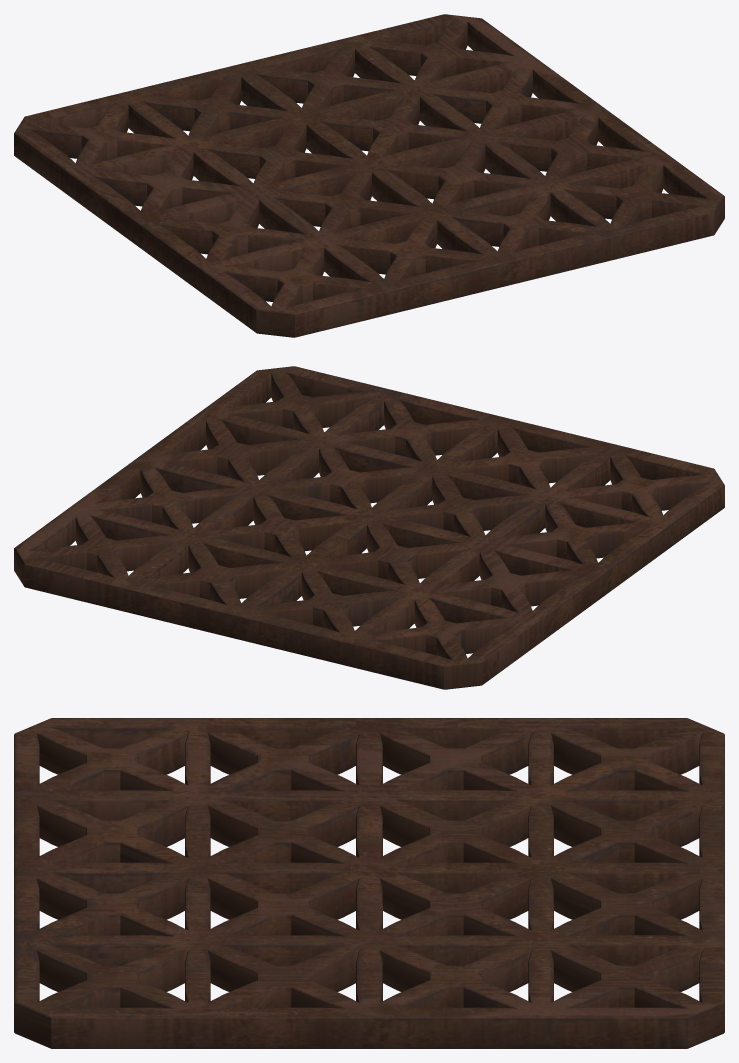
File: grade_de_madeira.glb
3 renders of one model, top to bottom at view 1: azimuth 30°, elevation 25°; view 2: azimuth 150°, elevation 25°; view 3: azimuth 270°, elevation 25°, orthographic. The views are drawn at different scales.
Parts seen in each view (by area): view 1: wood_grid_low/wood_grid_low_wood_grid_0; view 2: wood_grid_low/wood_grid_low_wood_grid_0; view 3: wood_grid_low/wood_grid_low_wood_grid_0.
Boxes of the visible parts, box(x1,y1,x2,y2) form: wood_grid_low/wood_grid_low_wood_grid_0: box(14, 14, 724, 337); wood_grid_low/wood_grid_low_wood_grid_0: box(14, 366, 724, 689); wood_grid_low/wood_grid_low_wood_grid_0: box(14, 718, 724, 1048).
Bounding box in the file's own units: 2 × 0.1 × 2.
1 material, 1 textured.
